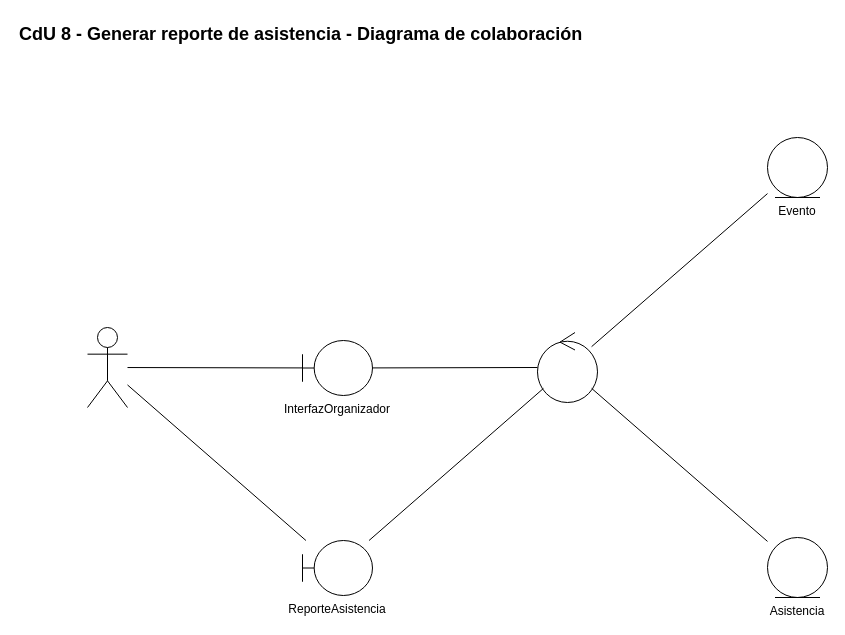
Image size: 845x635. Some labels were removed from this diagram. The box of each missing label's shape, as (x1, y1, x2, y2) in pixels:
GestiónAsistencia: (536, 332, 598, 402)
Organizador: (86, 326, 128, 408)
